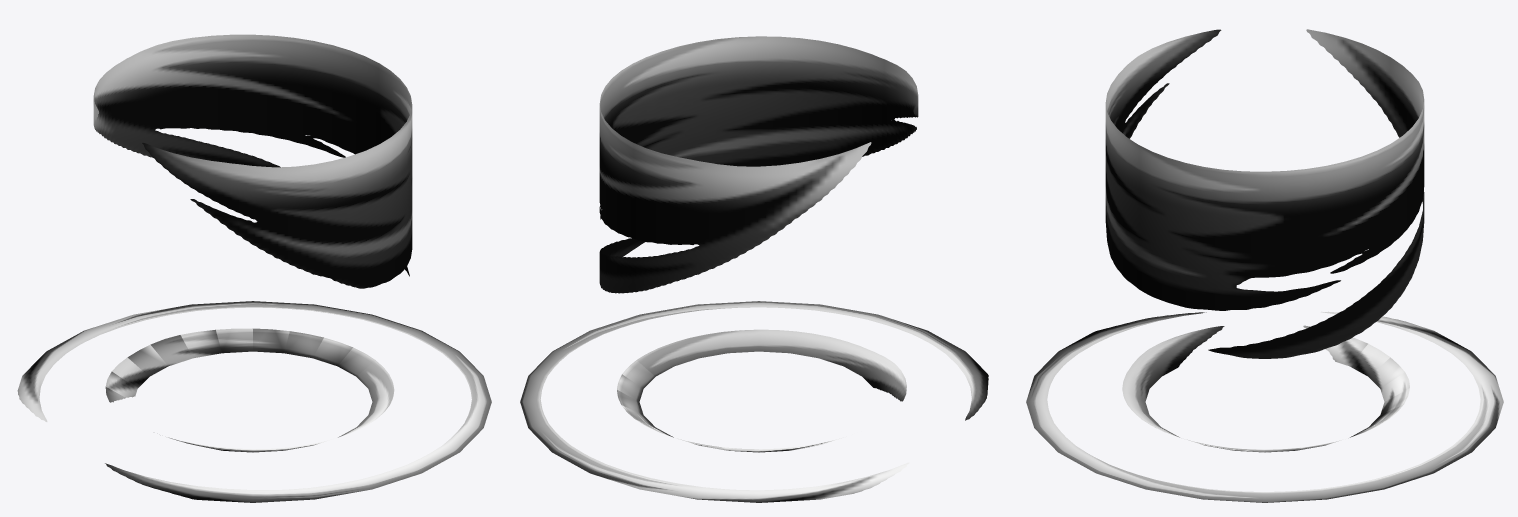
The model's file is eff_Column01.fbx.
3 views of the same model, side by side, from view 1: azimuth 30°, elevation 25°; view 2: azimuth 150°, elevation 25°; view 3: azimuth 270°, elevation 25° (orthographic).
Visible parts, largest first — view 1: eff_Column01_front_msh, eff_Column01_rear_msh; view 2: eff_Column01_rear_msh, eff_Column01_front_msh; view 3: eff_Column01_rear_msh, eff_Column01_front_msh.
Boxes of the visible parts, x1=… form: eff_Column01_front_msh: x1=17, y1=34, x2=459, y2=421; eff_Column01_rear_msh: x1=105, y1=71, x2=491, y2=502; eff_Column01_rear_msh: x1=552, y1=36, x2=988, y2=420; eff_Column01_front_msh: x1=520, y1=71, x2=909, y2=502; eff_Column01_rear_msh: x1=1026, y1=29, x2=1264, y2=502; eff_Column01_front_msh: x1=1265, y1=29, x2=1503, y2=502.
Bounding box in the file's own units: 13.5 × 10 × 13.5.
